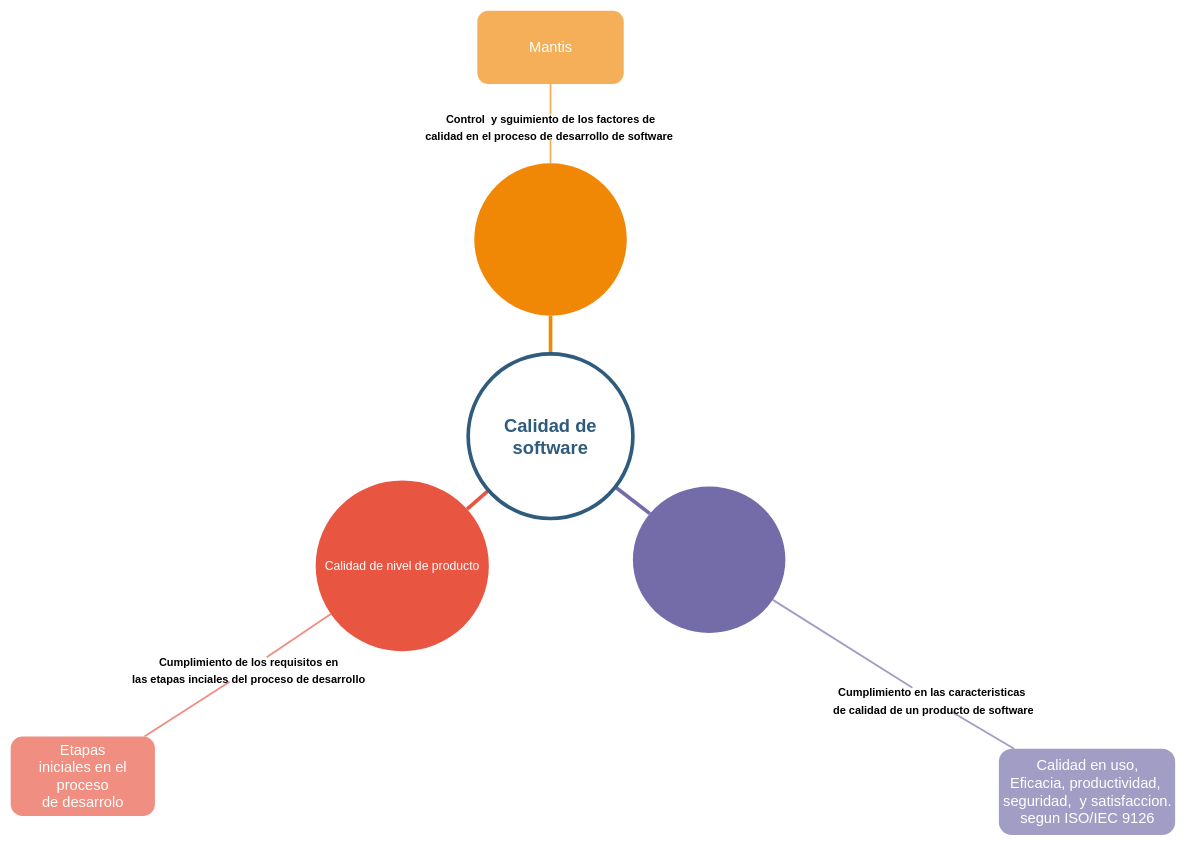
Some shapes in this 1185 by 845 pixel diagram are drawn without their labels. The box of each missing label's shape, as (x1, y1, x2, y2) in pixels:
Calidad de nivel de proceso: (474, 163, 626, 315)
Calidad en uso: (633, 486, 785, 633)
